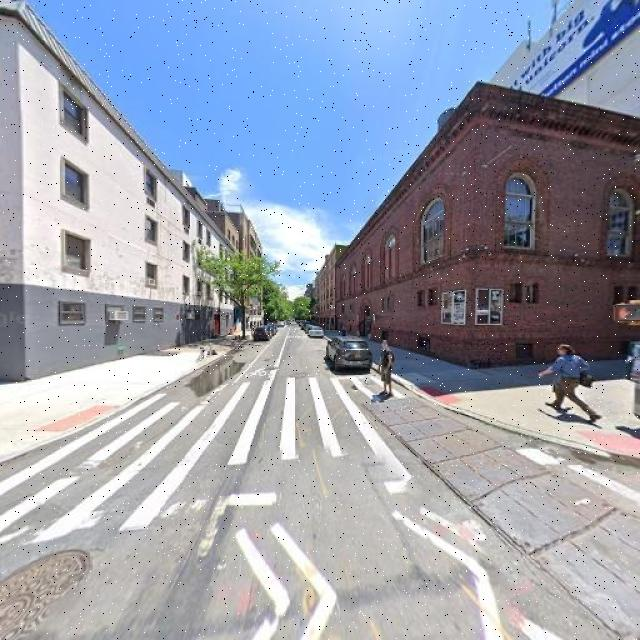Building: (1, 1, 234, 383), (335, 89, 640, 369)
